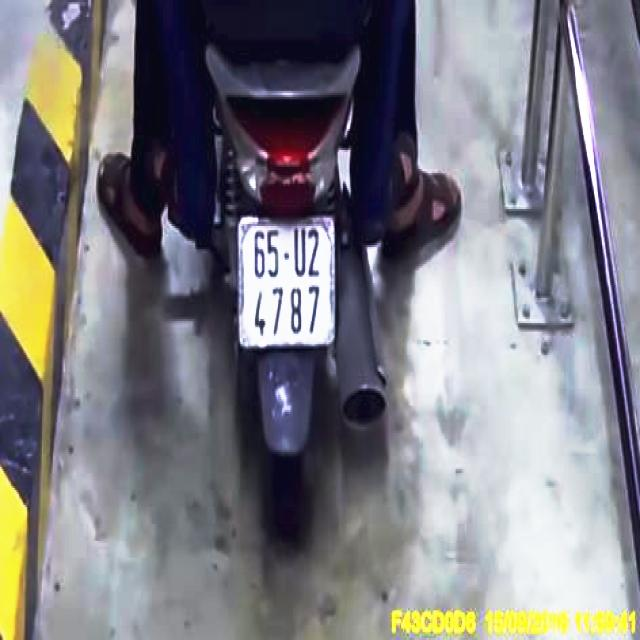license_plate: (242, 221, 336, 348)
